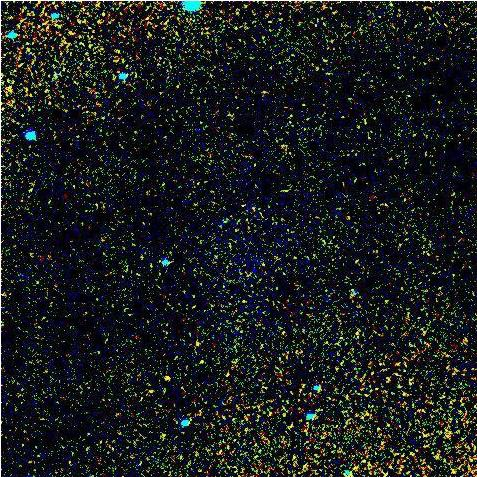star: (149, 355, 179, 385)
